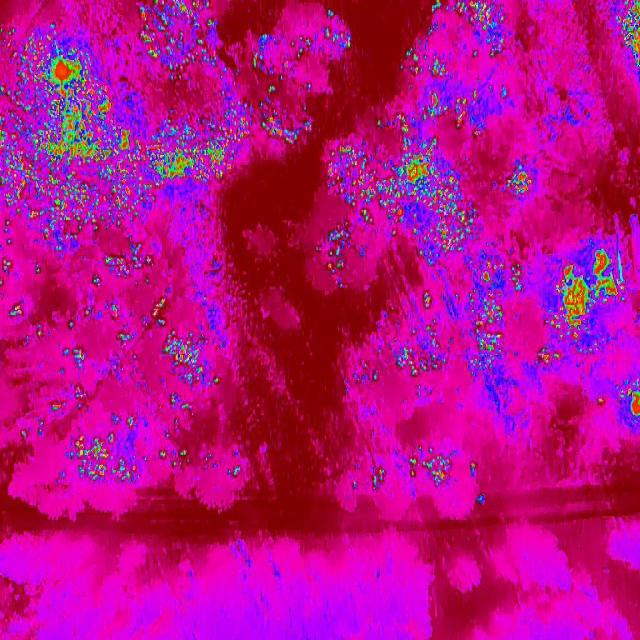fire: (0, 23, 142, 245), (328, 138, 482, 273), (142, 0, 246, 191), (458, 258, 531, 423), (536, 236, 628, 366), (407, 52, 512, 140), (252, 12, 352, 78), (65, 415, 149, 493), (432, 0, 516, 59), (163, 330, 222, 390), (256, 90, 316, 149), (391, 324, 448, 380), (104, 245, 156, 285), (403, 450, 457, 488), (615, 0, 640, 72), (504, 165, 534, 195), (619, 382, 640, 422), (7, 301, 26, 319)
